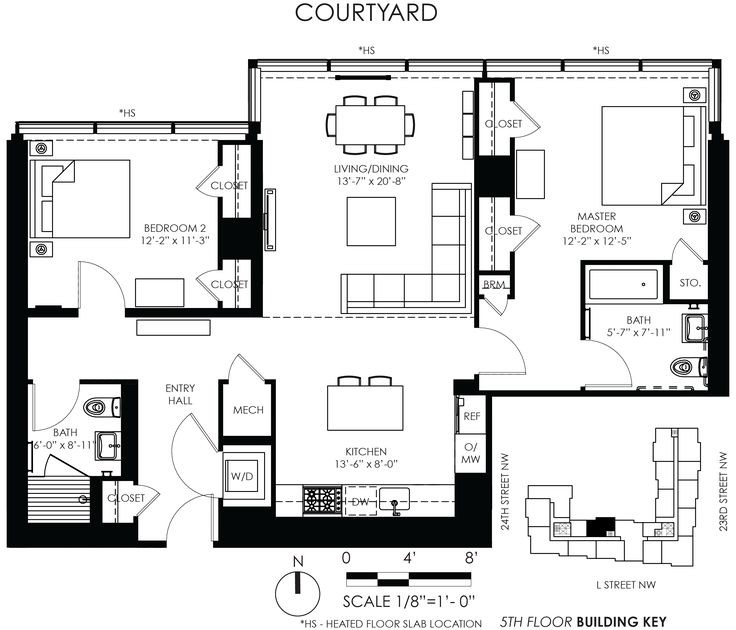door: (165, 405, 223, 549), (574, 328, 639, 390), (475, 328, 532, 387), (72, 256, 128, 309), (26, 379, 78, 435), (500, 94, 552, 149), (507, 205, 541, 253), (467, 288, 518, 320), (227, 352, 269, 390), (190, 166, 229, 204)
room: (7, 307, 496, 554), (478, 49, 736, 403), (248, 53, 485, 321), (4, 106, 270, 322)
wall: (3, 135, 23, 549), (709, 129, 733, 407), (7, 516, 144, 556), (114, 368, 150, 489), (246, 148, 269, 316), (132, 303, 260, 323)
window: (249, 57, 720, 75), (18, 112, 252, 141)
